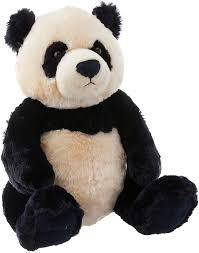panda: (0, 4, 186, 250)
